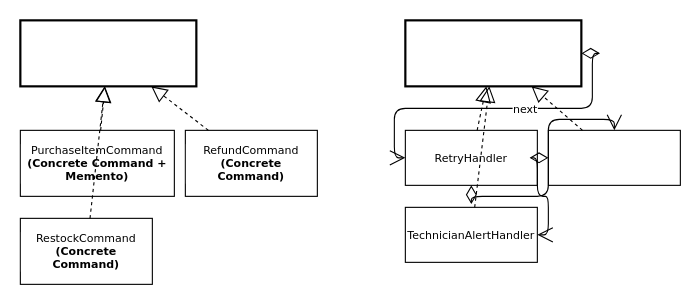
The diagram is 700 pixels wide and 304 high, and some of its shapes have lost their labels. Each missing label, with the centre of its shape:
"FailureHandler (Chain of Responsibility)" goes at point (493, 53).
"RecalibrationHandler" goes at point (613, 157).
"TransactionCommand (Command Interface)" goes at point (108, 53).
